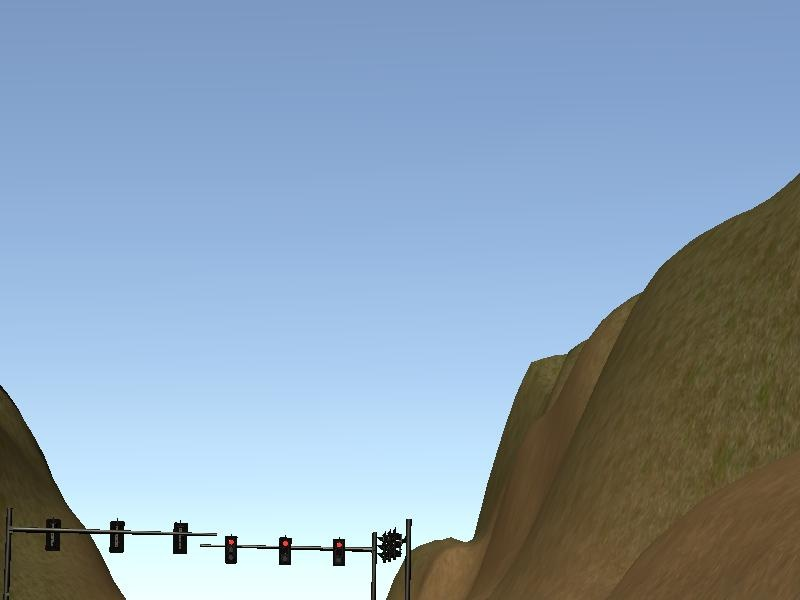traffic_light_red: (208, 534, 372, 567)
